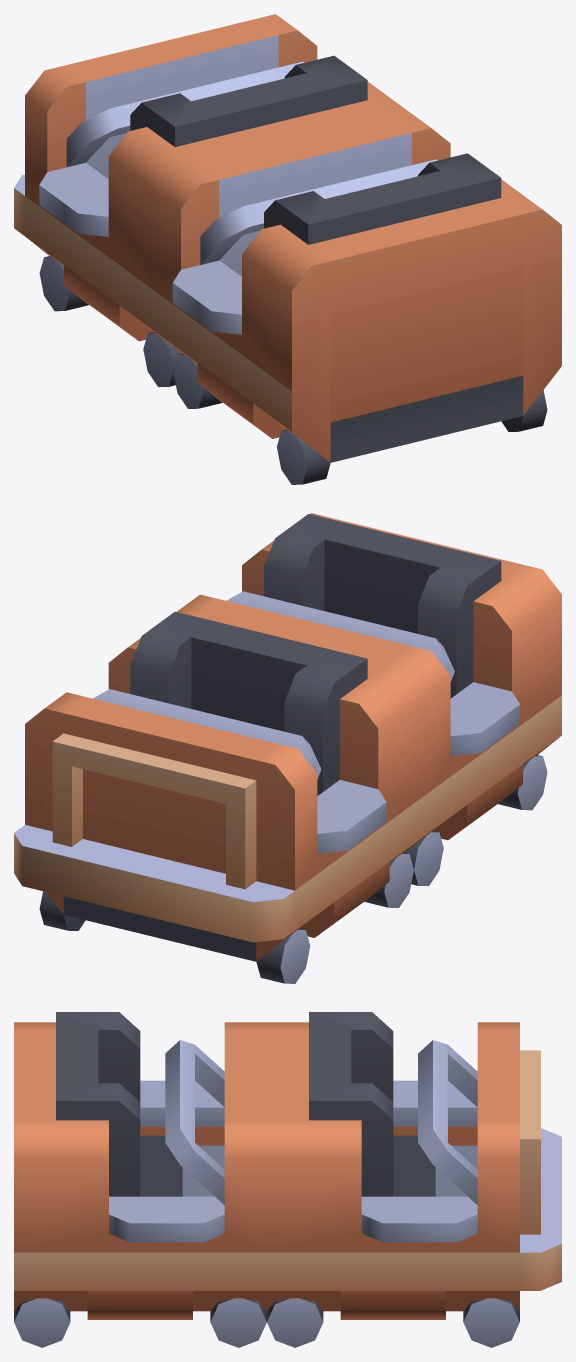
File: coaster-train-wooden.glb
3 renders of one model, top to bottom at view 1: azimuth 30°, elevation 25°; view 2: azimuth 150°, elevation 25°; view 3: azimuth 270°, elevation 25°, orthographic. The views are drawn at different scales.
Visible parts, largest first — view 1: coaster-train-wooden; view 2: coaster-train-wooden; view 3: coaster-train-wooden.
Part boxes in pixels (x1,y1,x2,y2): coaster-train-wooden: (14,14,561,484); coaster-train-wooden: (14,513,561,983); coaster-train-wooden: (14,1012,561,1347).
Bounding box in the file's own units: 0.8001 × 0.6171 × 1.3.
Materials: 1 (1 with a texture image).
